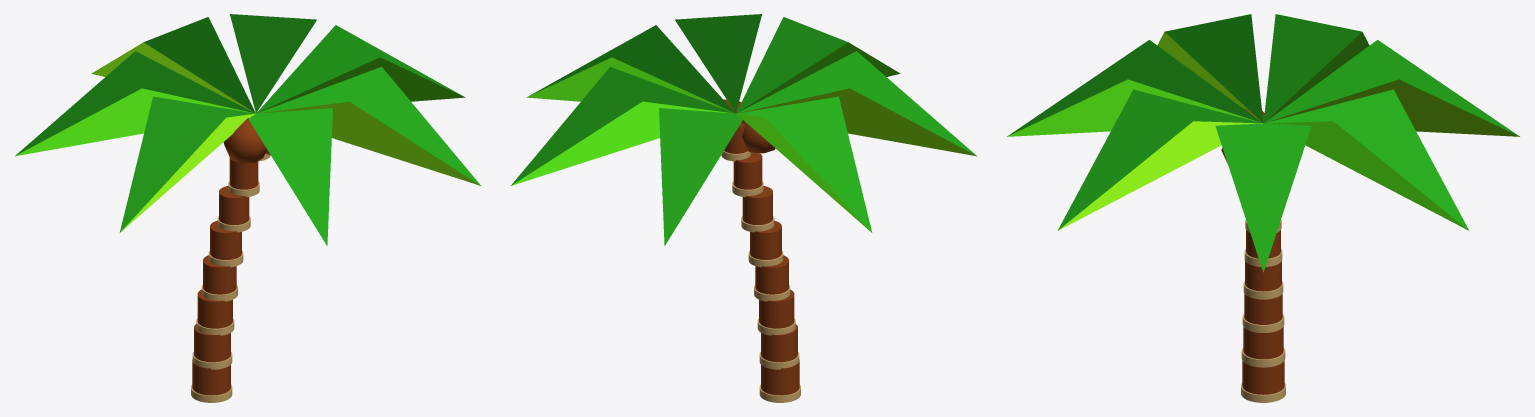
Rendered from hill-palm.obj.
3 renders of one model, left to right at view 1: azimuth 30°, elevation 25°; view 2: azimuth 150°, elevation 25°; view 3: azimuth 270°, elevation 25°, orthographic. The views are drawn at different scales.
Visible parts, largest first — view 1: surface; view 2: surface; view 3: surface.
Boxes of the visible parts, x1,y1,x2,y2 form: surface: (15, 14, 480, 402); surface: (511, 14, 976, 402); surface: (1007, 14, 1519, 402).
Bounding box in the file's own units: 3.33 × 2.53 × 3.41.
